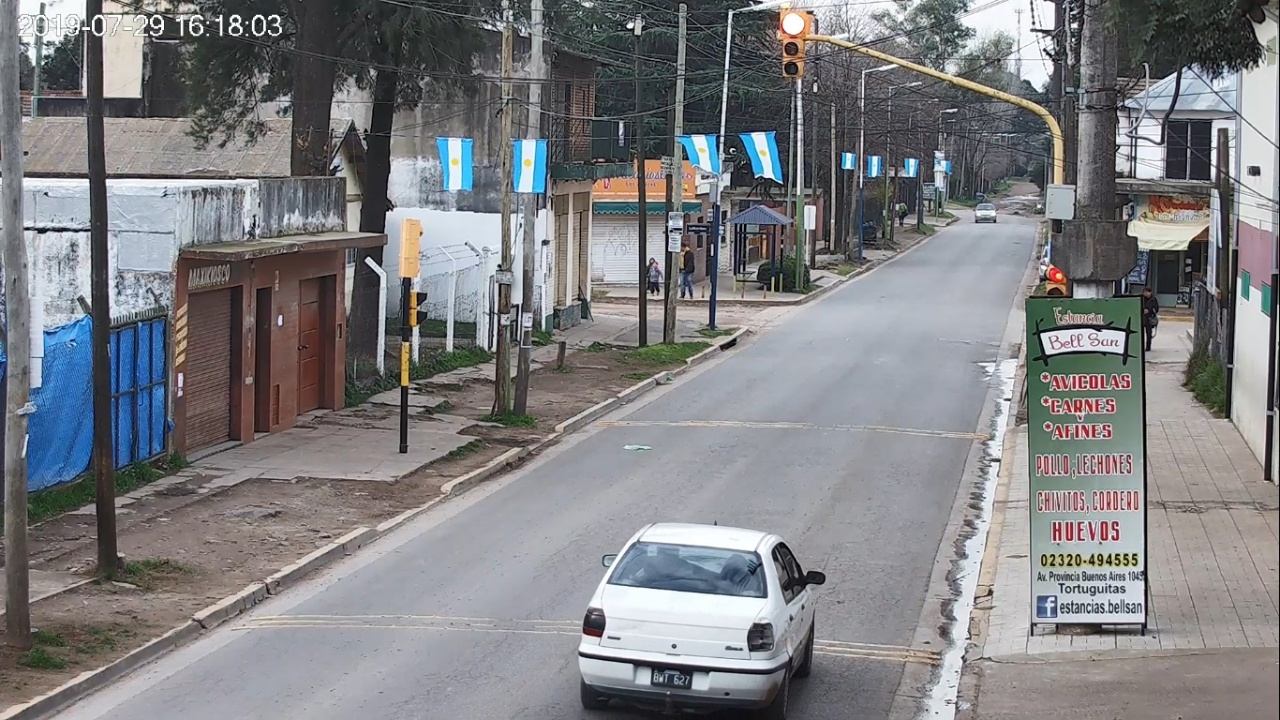car: (577, 521, 825, 720)
traffic light: (782, 12, 804, 76)
